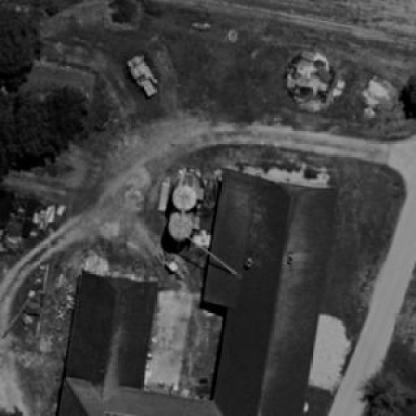solar-pv-panel: (104, 412, 137, 416)
